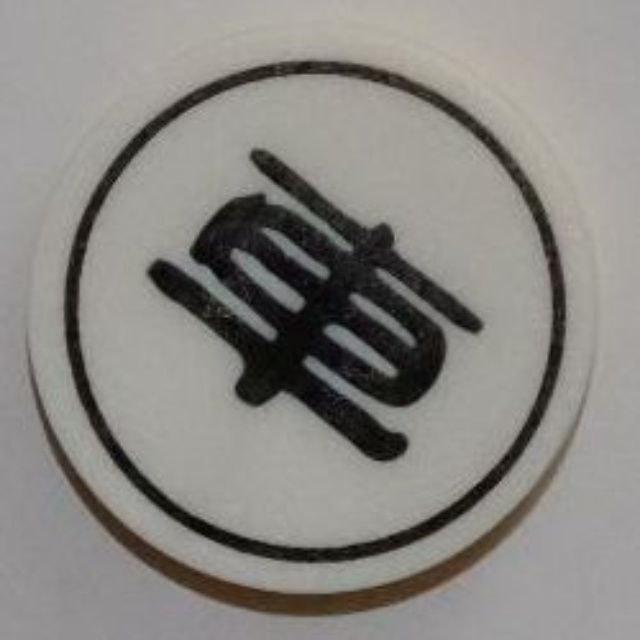black_xe: (19, 16, 611, 613)
